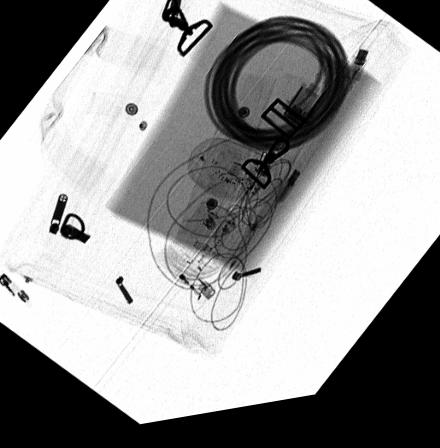Lighter: (152, 250, 218, 308)
